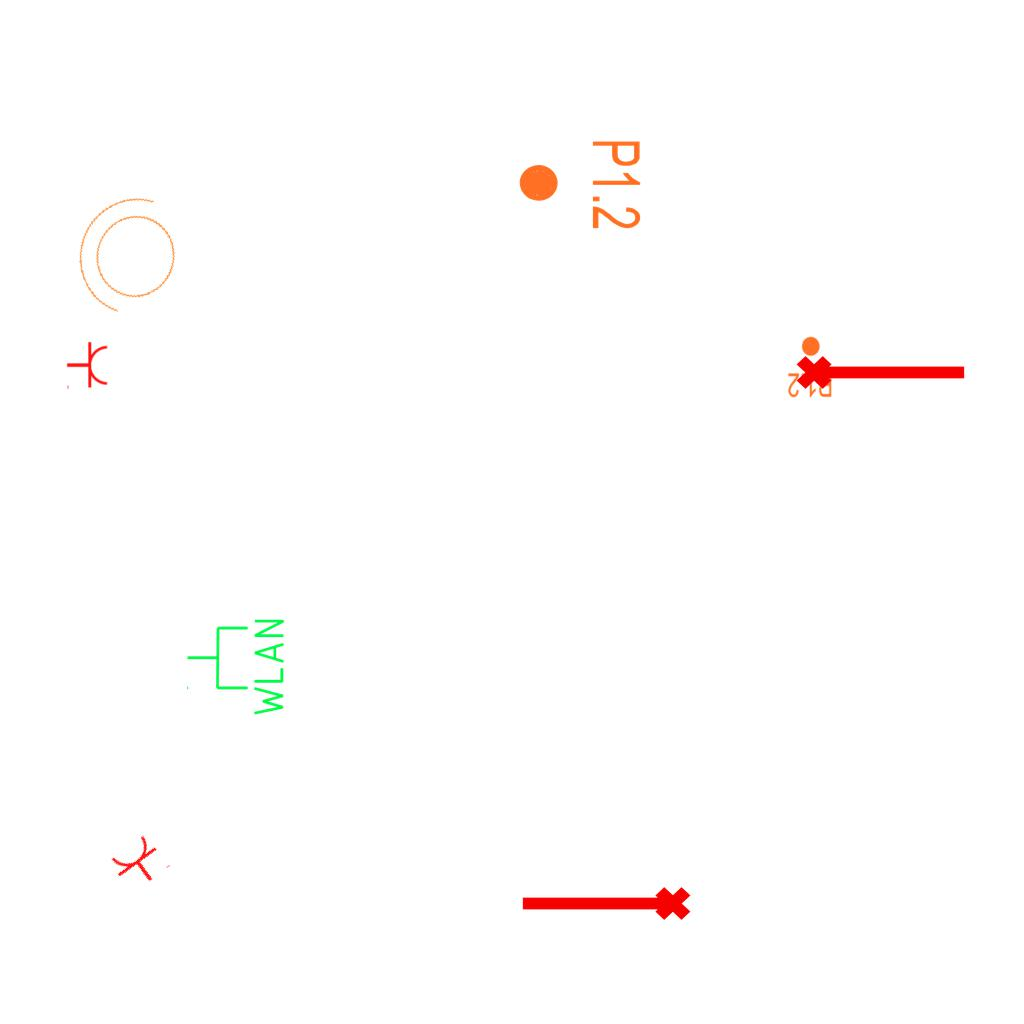ASR_Ansaugoeffnung: (517, 883, 693, 929), (794, 347, 970, 393)
Downlight_LED_Einbauleuchten_Flur: (516, 138, 644, 231), (787, 335, 833, 399)
Scheinwerfer_fuer_Alarmbeleuchtung: (56, 177, 204, 339)
Schukosteckdose_einfach: (106, 830, 173, 896), (66, 341, 109, 391)
WLAN: (184, 615, 288, 720)
